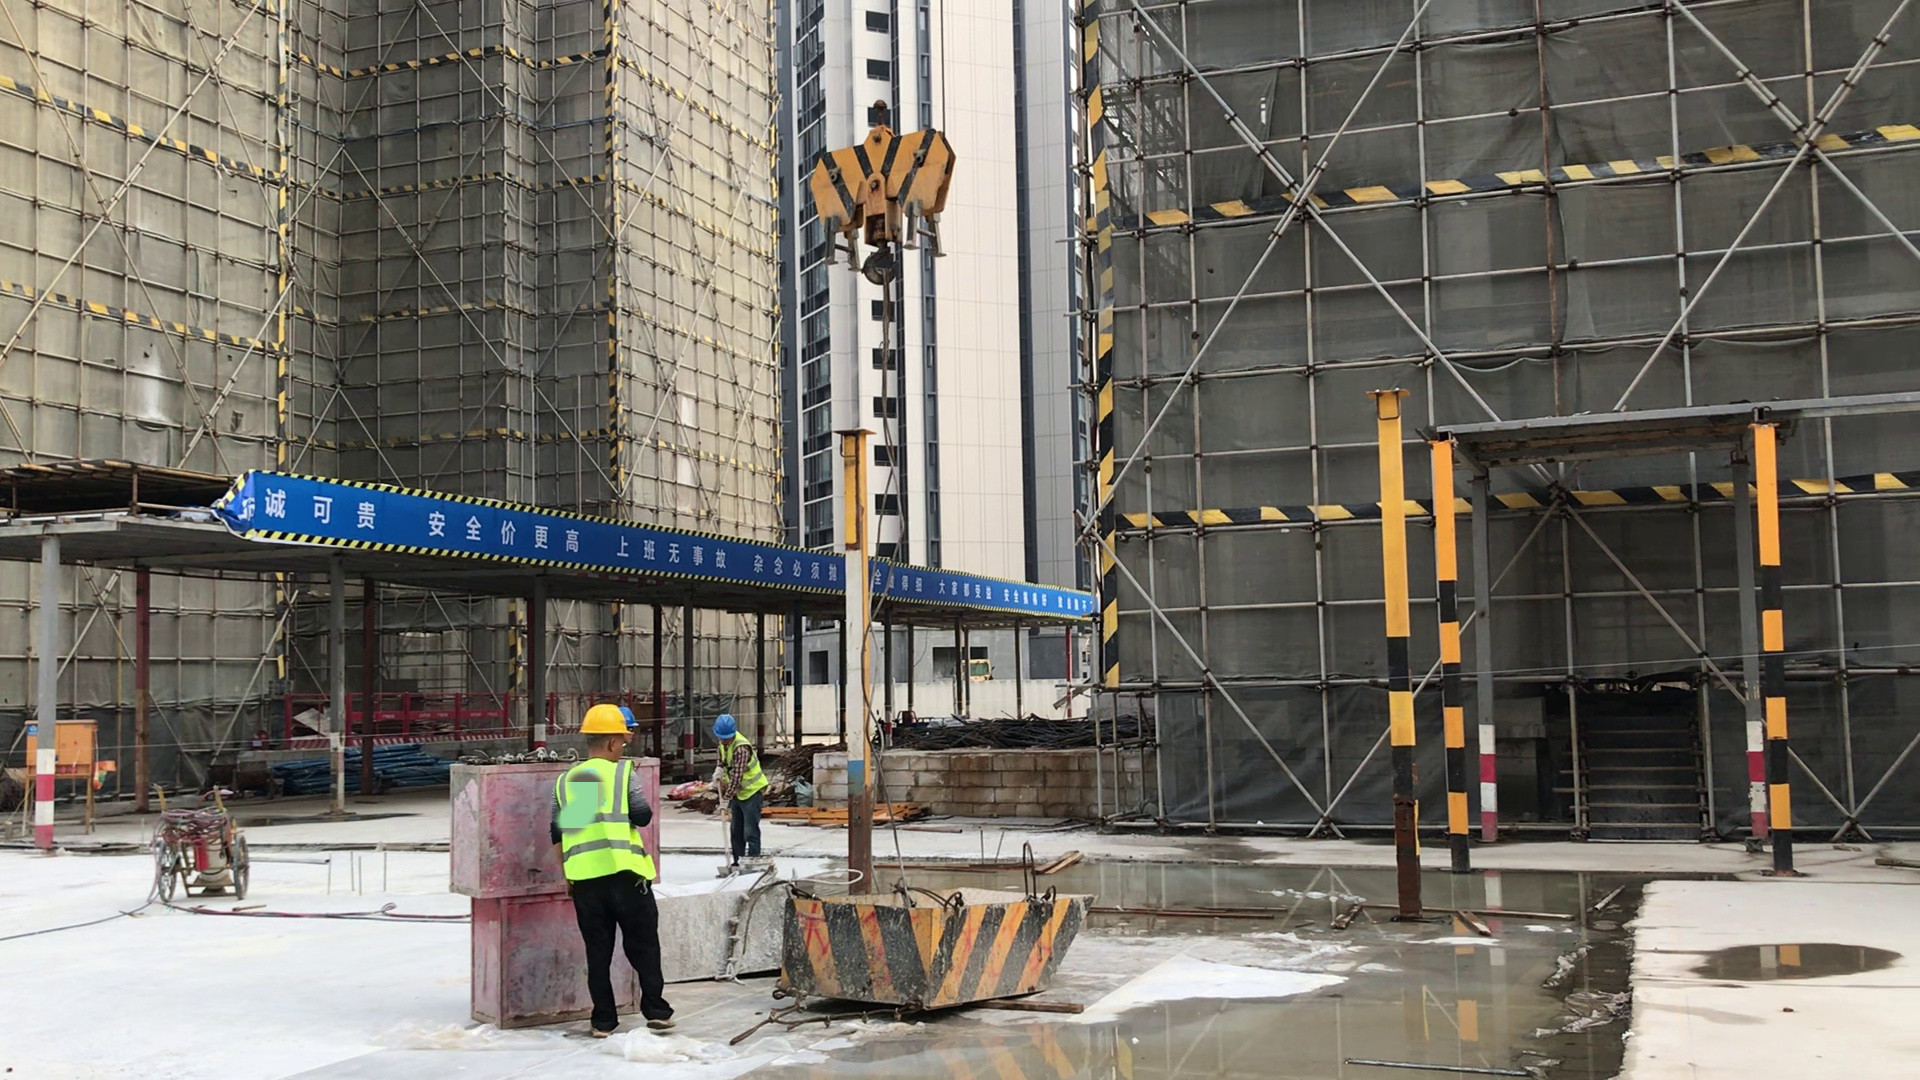ebox: (14, 708, 103, 793)
fence: (275, 679, 601, 752)
handcart: (151, 797, 263, 911)
helmet: (584, 689, 644, 738), (707, 701, 738, 734)
hook: (808, 109, 960, 291)
hopper: (764, 876, 1071, 1009), (641, 865, 815, 982)
person: (545, 695, 682, 1034), (703, 713, 771, 879)
slogan: (222, 457, 1099, 634)
vest: (552, 748, 658, 890), (714, 748, 764, 800)
